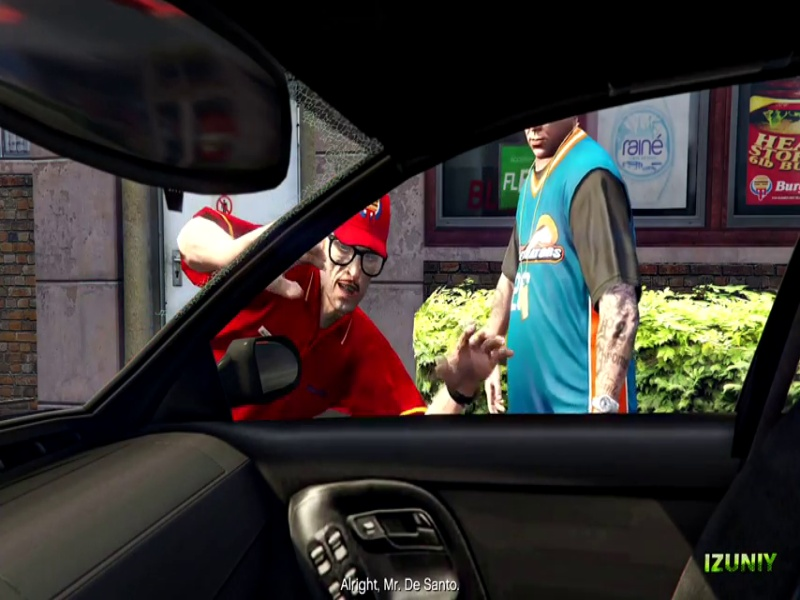human: (499, 120, 635, 417)
